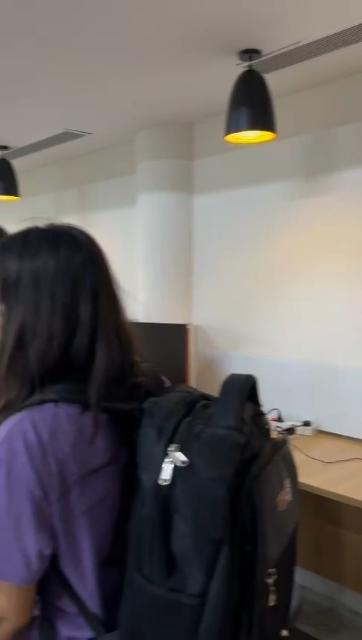moving-obj: (0, 260, 292, 640)
wall: (24, 56, 361, 440)
